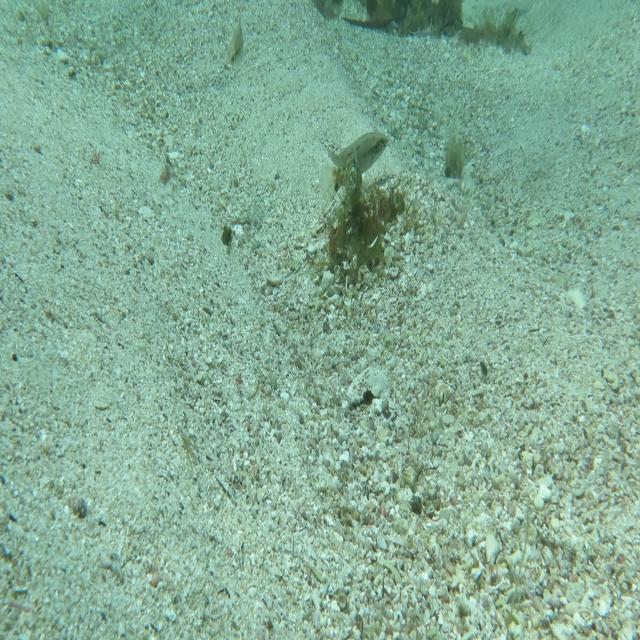BEND_OPP: (318, 145, 367, 212)
female: (323, 128, 392, 176)
nest: (314, 172, 418, 292)
